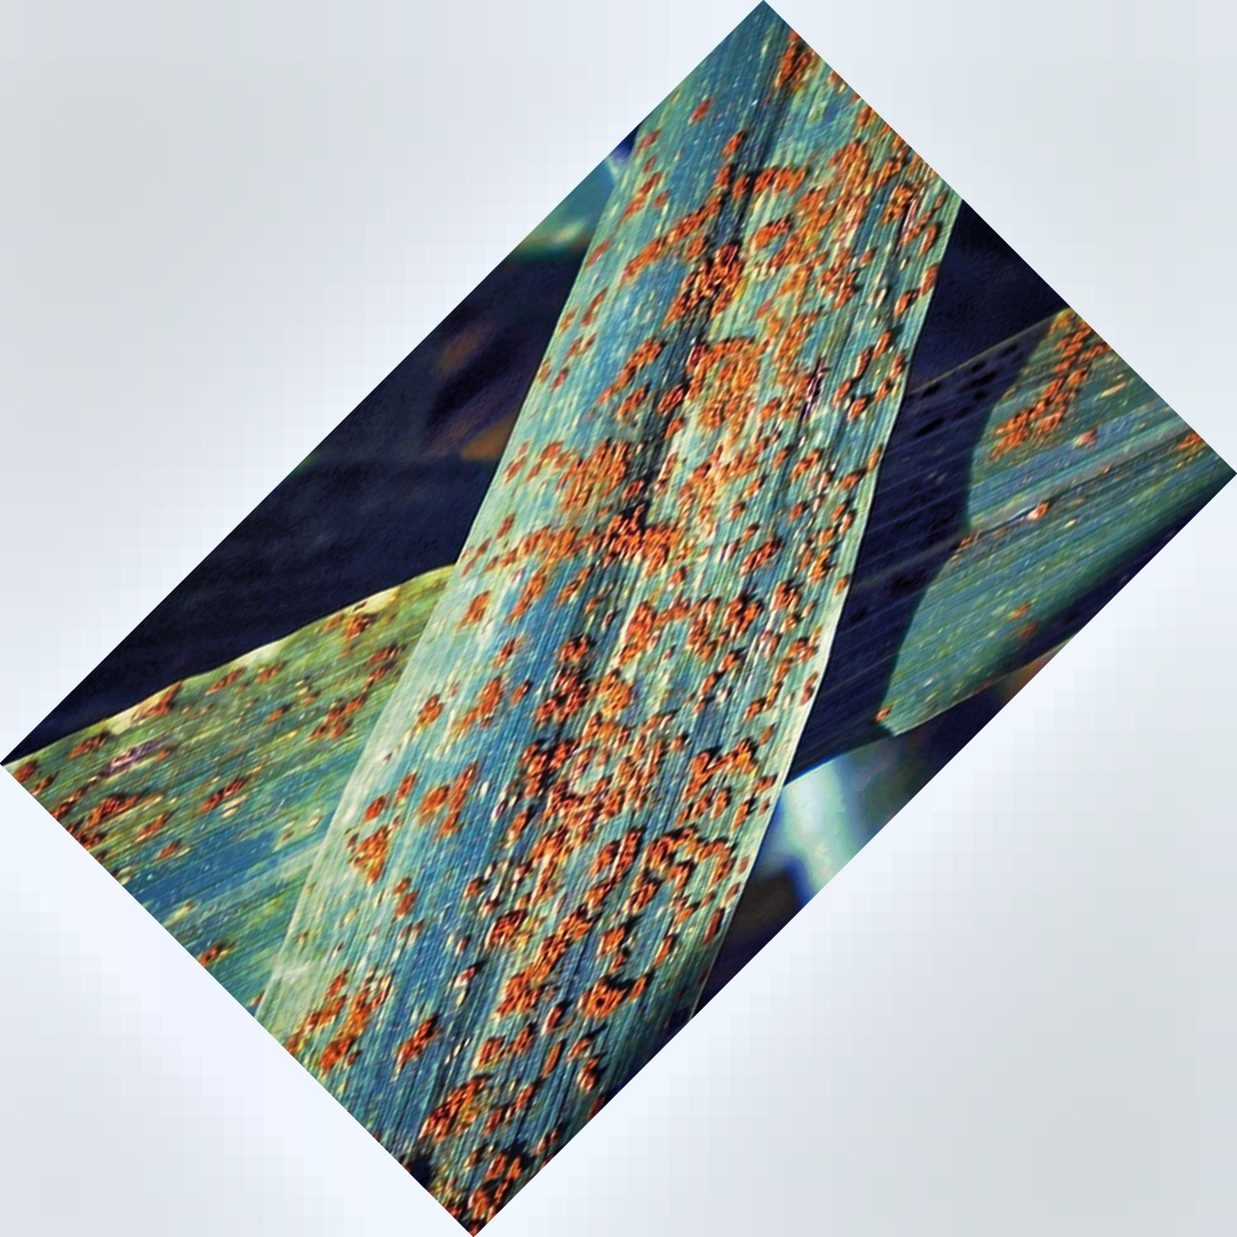Leaf Rust: (372, 169, 931, 1087)
